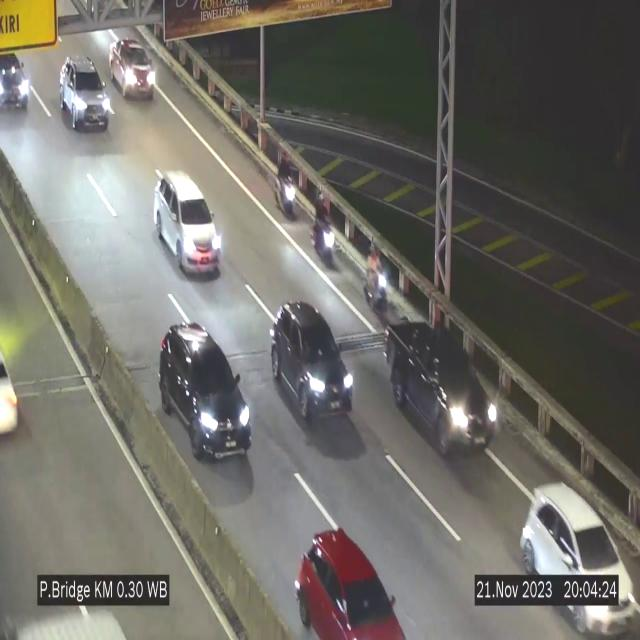Car: (509, 470, 638, 631), (282, 514, 414, 640), (387, 321, 498, 459), (158, 322, 252, 474), (269, 292, 359, 431), (154, 172, 222, 275), (60, 58, 111, 130), (0, 46, 38, 120), (110, 39, 154, 99)
Motorcycle: (362, 232, 390, 325), (312, 185, 338, 274), (274, 158, 298, 218)
